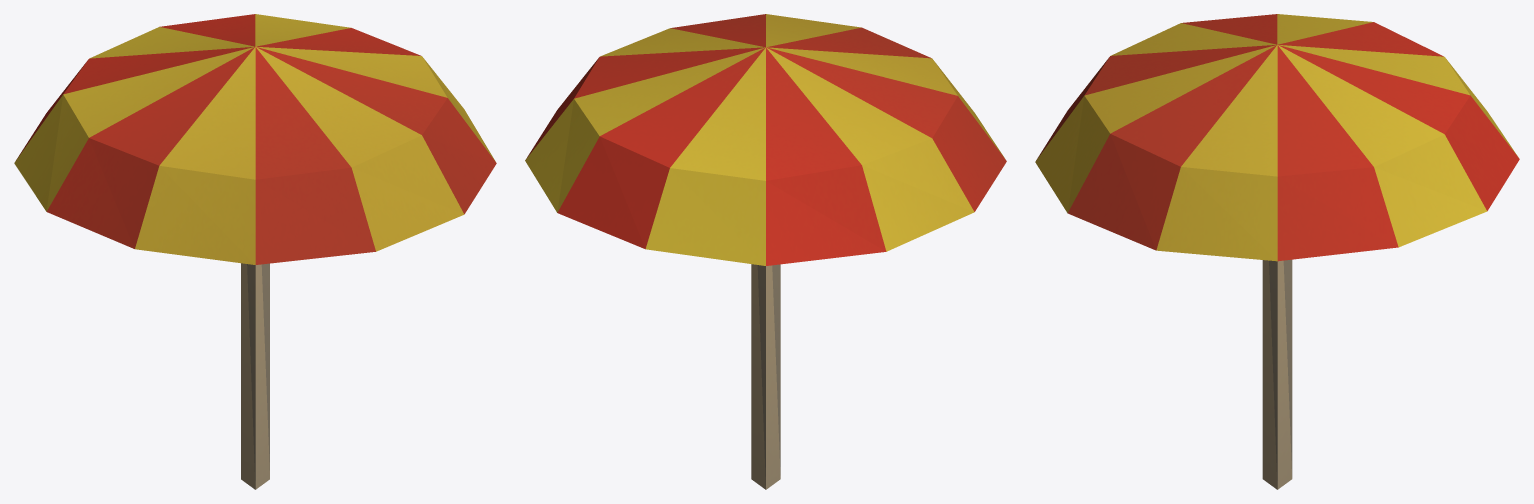
The model's file is Umbrella_1.fbx.
The picture shows the model from 3 angles, left to right: view 1: azimuth 30°, elevation 25°; view 2: azimuth 150°, elevation 25°; view 3: azimuth 270°, elevation 25°; orthographic projection.
Parts seen in each view (by area): view 1: polySurface173; view 2: polySurface173; view 3: polySurface173.
Part boxes in pixels (box(x1,y1,x2,y2)): polySurface173: box(14, 14, 496, 489); polySurface173: box(525, 14, 1006, 489); polySurface173: box(1035, 14, 1519, 489).
Bounding box in the file's own units: 285 × 284 × 285.
